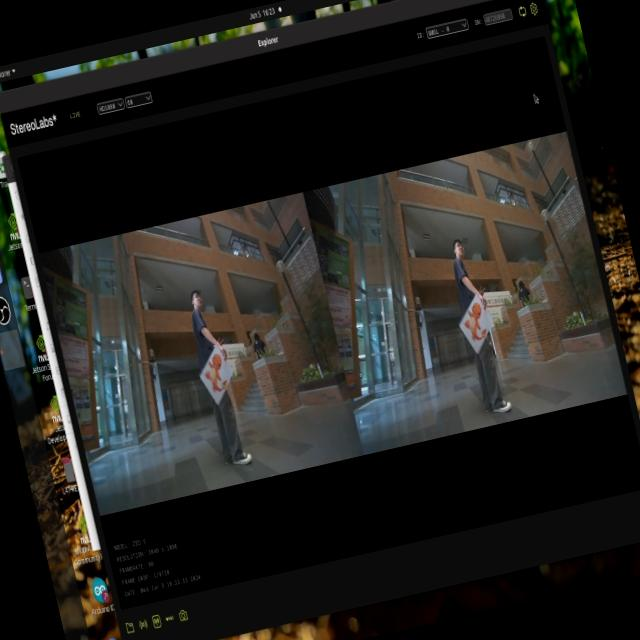red: (452, 297, 498, 358), (198, 352, 244, 392)
